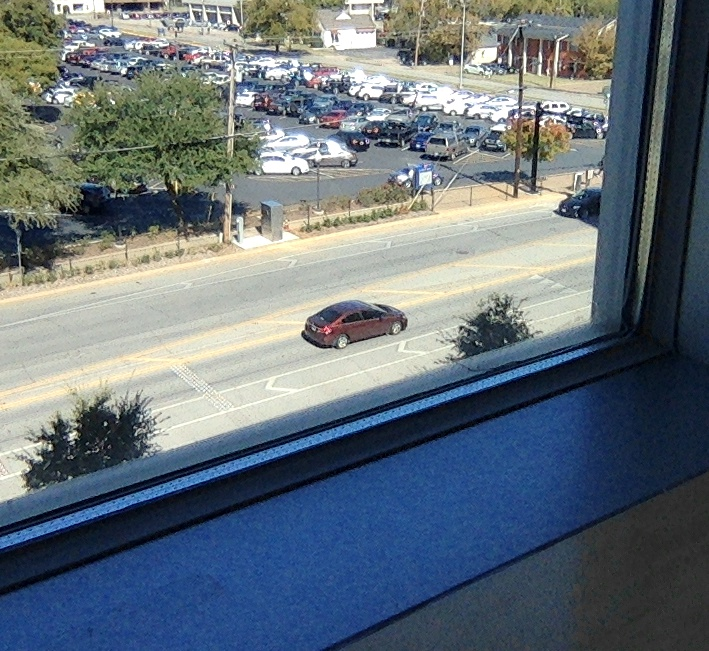car: (300, 300, 409, 351)
